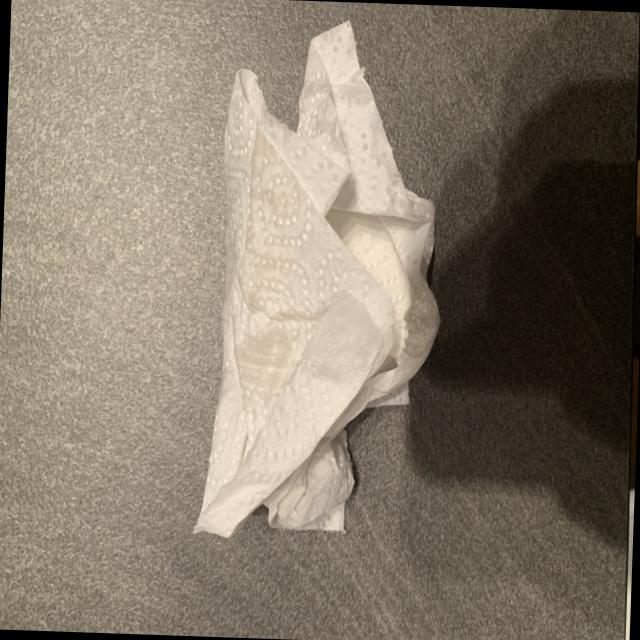organic waste: (194, 10, 455, 552)
